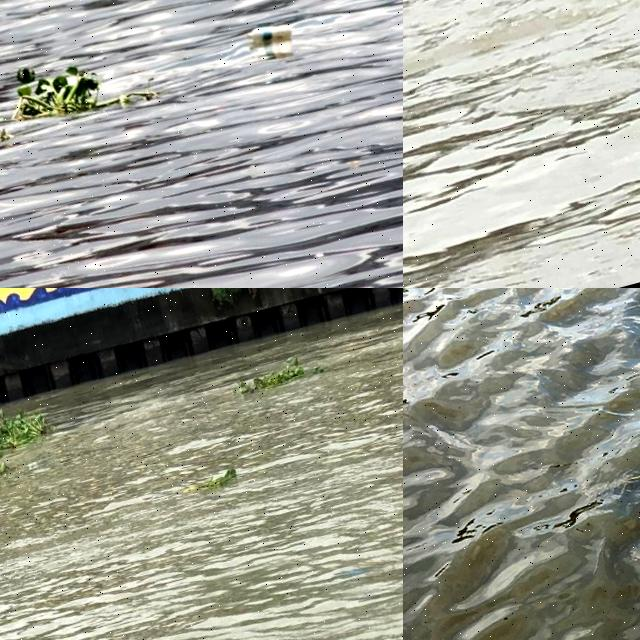plastic bottle: (242, 27, 298, 40)
water-hyacinth: (1, 35, 148, 137), (233, 354, 328, 389), (1, 408, 51, 452), (189, 470, 242, 489)
